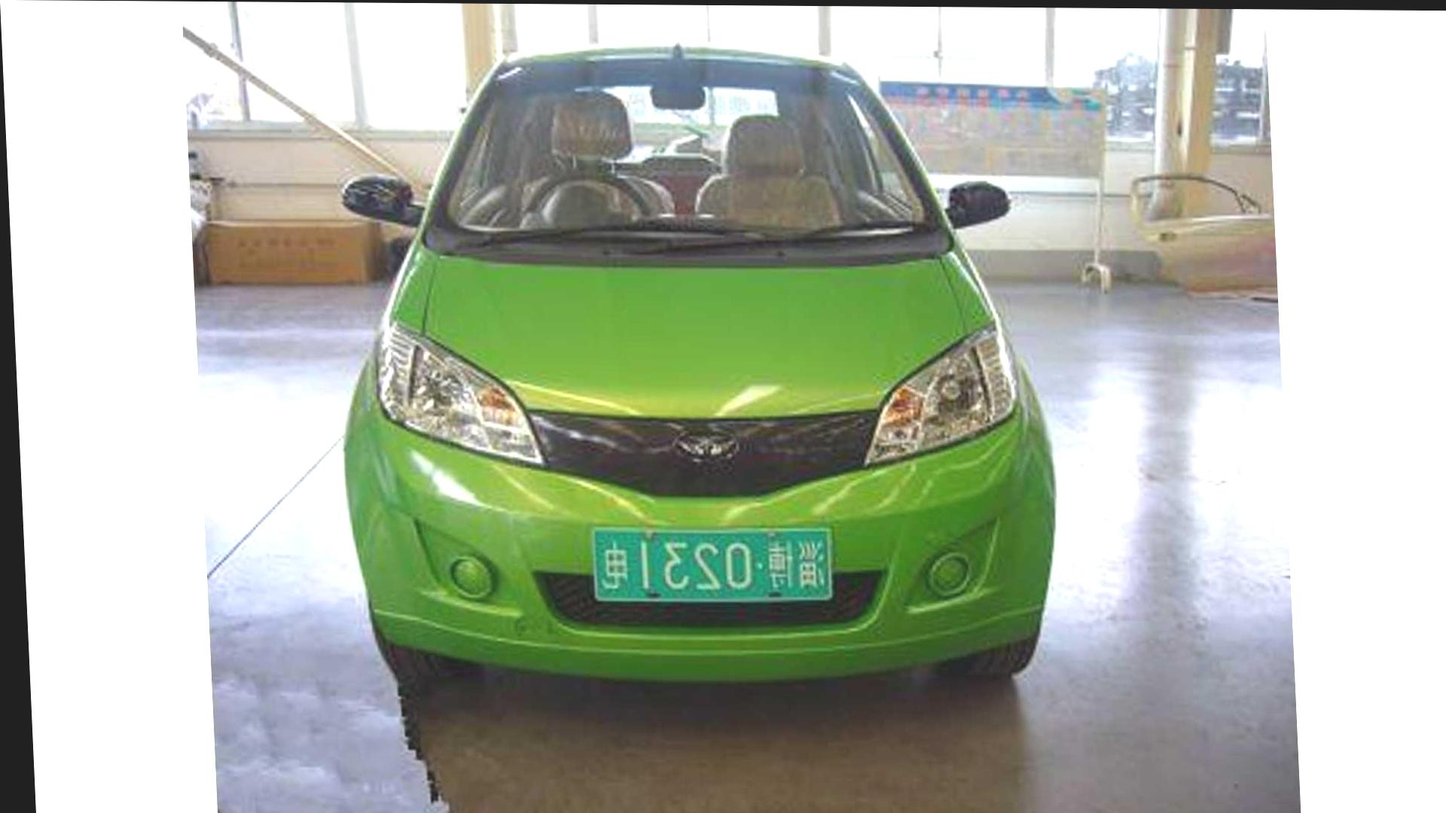License_Plate: (586, 516, 843, 623)
